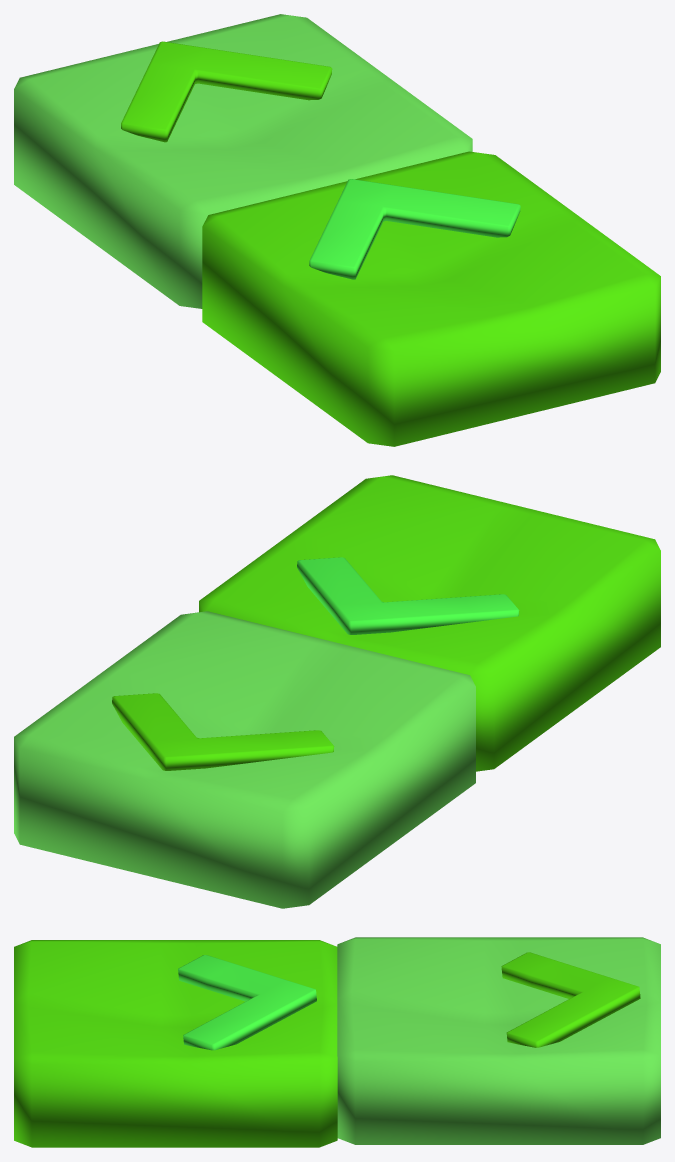
Rendered from KNOPKI.fbx.
3 views of the same model, one above another, from view 1: azimuth 30°, elevation 25°; view 2: azimuth 150°, elevation 25°; view 3: azimuth 270°, elevation 25° (orthographic). The views are drawn at different scales.
Parts seen in each view (by area): view 1: Cube, Cube.003, Cube.001, Cube.002; view 2: Cube.003, Cube, Cube.002, Cube.001; view 3: Cube, Cube.003, Cube.002, Cube.001.
Boxes of the visible parts, x1,y1,x2,y2 form: Cube: (202, 151, 660, 446); Cube.003: (14, 14, 472, 308); Cube.001: (309, 179, 520, 279); Cube.002: (121, 41, 332, 142); Cube.003: (14, 611, 475, 908); Cube: (199, 475, 660, 771); Cube.002: (112, 693, 334, 770); Cube.001: (297, 557, 519, 634); Cube: (14, 940, 337, 1147); Cube.003: (337, 937, 660, 1144); Cube.002: (501, 952, 640, 1047); Cube.001: (178, 955, 316, 1050).
Size of the model in its own units: 277 by 105 by 605.
